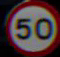Speed limit: (4, 2, 57, 52)
